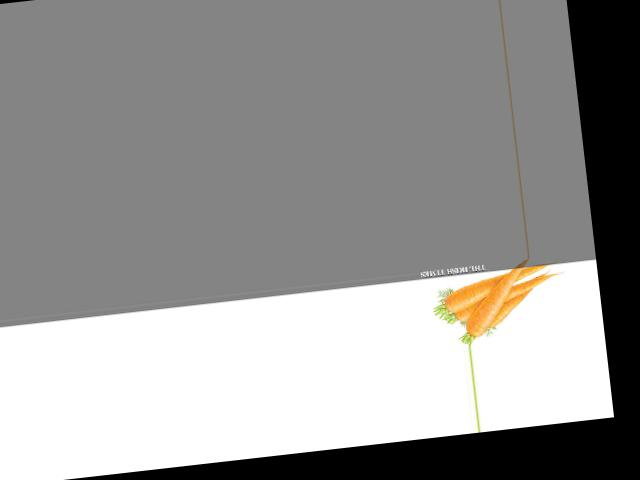carrot: (429, 258, 521, 313)
